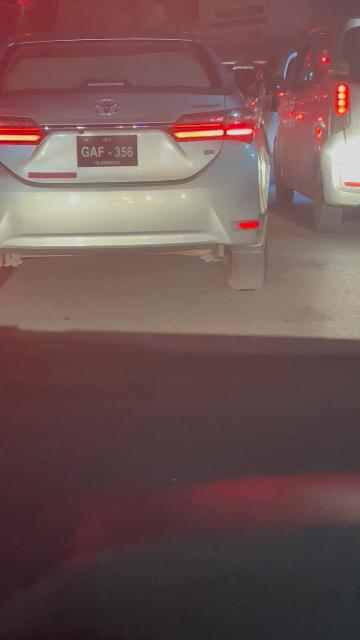plate: (74, 134, 140, 166)
